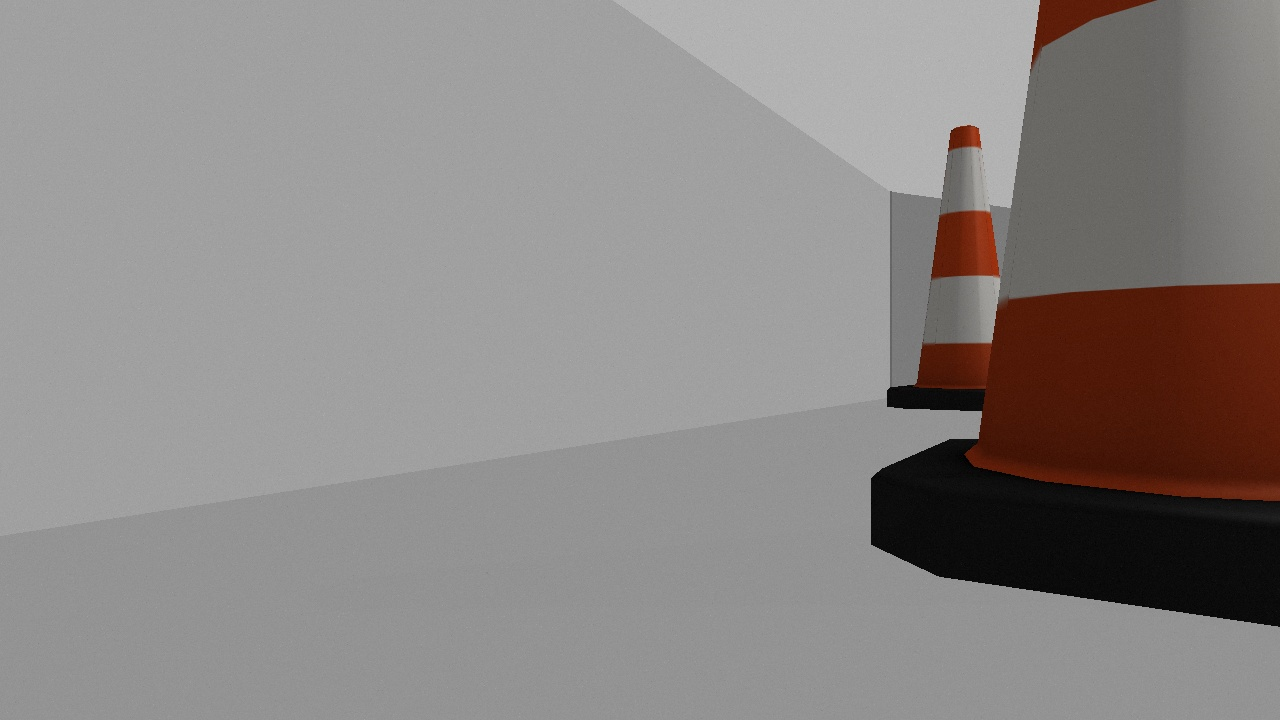barricade: (871, 1, 1280, 629), (886, 123, 1019, 415)
